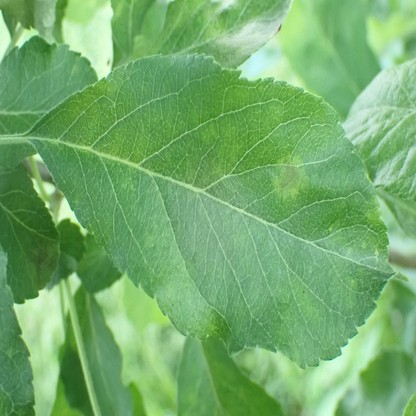scab: (27, 238, 57, 286), (273, 157, 306, 196)
